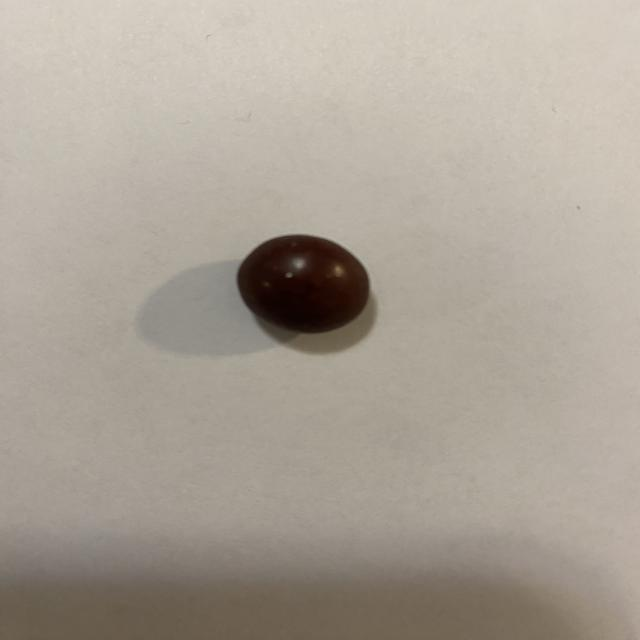smartie: (237, 235, 371, 335)
